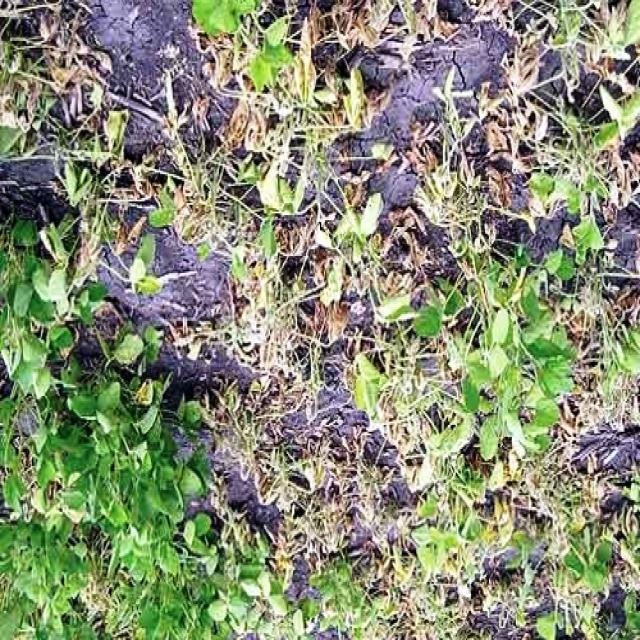Fusarium Wilt: (42, 18, 566, 560)
